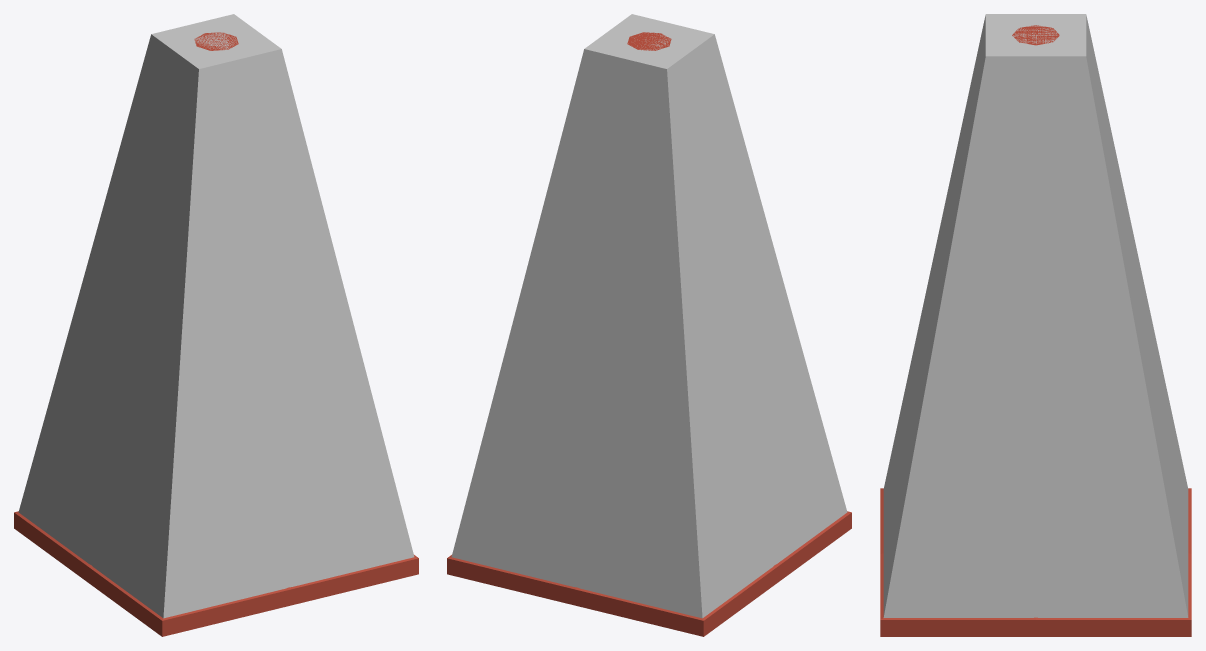
File: SM_PavementBarriers_05.fbx
The picture shows the model from 3 angles, left to right: view 1: azimuth 30°, elevation 25°; view 2: azimuth 150°, elevation 25°; view 3: azimuth 270°, elevation 25°; orthographic projection. The views are drawn at different scales.
Visible parts, largest first — view 1: SM_PavementBarriers_05_ConvexHulls, SM_PavementBarriers_05; view 2: SM_PavementBarriers_05_ConvexHulls, SM_PavementBarriers_05; view 3: SM_PavementBarriers_05_ConvexHulls, SM_PavementBarriers_05.
Part boxes in pixels (left/top/right/bottom): SM_PavementBarriers_05_ConvexHulls: left=18, top=14, right=414, bottom=618; SM_PavementBarriers_05: left=14, top=32, right=418, bottom=636; SM_PavementBarriers_05_ConvexHulls: left=451, top=14, right=847, bottom=618; SM_PavementBarriers_05: left=447, top=32, right=851, bottom=636; SM_PavementBarriers_05_ConvexHulls: left=883, top=14, right=1188, bottom=617; SM_PavementBarriers_05: left=880, top=25, right=1191, bottom=636.
Size of the model in its own units: 42.55 by 42.55 by 80.75.
Materials: 2 (1 with a texture image).
